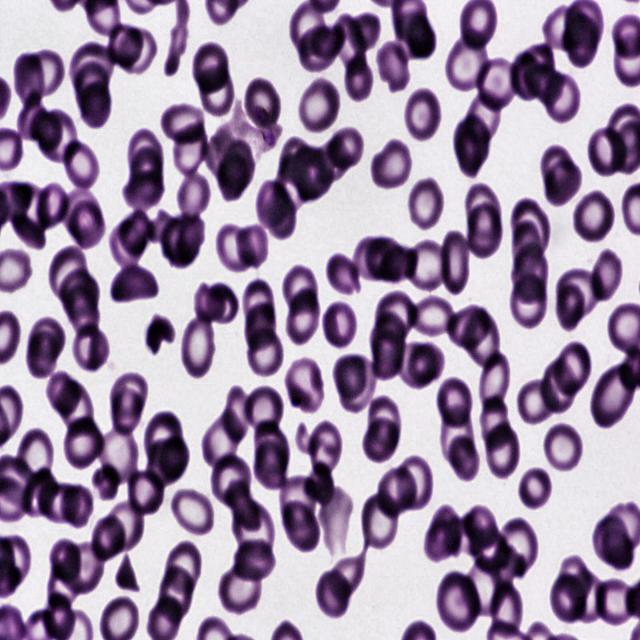red blood cell: (210, 120, 258, 202), (140, 410, 188, 480), (557, 0, 605, 70), (490, 516, 540, 582), (451, 304, 504, 366), (590, 364, 639, 431), (225, 492, 276, 553), (436, 569, 482, 635), (317, 124, 363, 186), (317, 483, 354, 560), (333, 351, 378, 414), (217, 556, 264, 616), (508, 199, 552, 263), (94, 424, 138, 488), (59, 540, 110, 595), (62, 187, 106, 250), (388, 453, 434, 513), (200, 408, 246, 468), (402, 238, 451, 294), (279, 490, 322, 553), (179, 311, 218, 380), (32, 112, 80, 168), (442, 34, 488, 92), (396, 336, 445, 390), (297, 75, 340, 136), (254, 422, 292, 491), (370, 311, 406, 383), (572, 188, 616, 246), (45, 245, 89, 303), (590, 510, 633, 569), (474, 56, 520, 111), (158, 213, 202, 270), (464, 556, 504, 618), (284, 356, 326, 415), (13, 428, 55, 487), (425, 504, 467, 563), (62, 415, 106, 471), (69, 43, 117, 94), (454, 114, 491, 180), (291, 146, 334, 202), (296, 27, 348, 73), (110, 262, 162, 308), (170, 486, 214, 540), (402, 85, 442, 144), (538, 68, 580, 124), (555, 270, 604, 318), (461, 506, 502, 563), (370, 136, 412, 191), (438, 230, 473, 296), (159, 564, 194, 630), (588, 123, 628, 180), (509, 273, 548, 331), (485, 577, 522, 638), (407, 295, 457, 340), (127, 129, 165, 188), (486, 420, 522, 482), (70, 319, 112, 372), (375, 291, 417, 344), (172, 168, 211, 225), (361, 490, 398, 550), (70, 60, 111, 114), (392, 9, 437, 58), (173, 121, 211, 179), (512, 242, 550, 300), (544, 422, 584, 477), (242, 385, 284, 437), (478, 348, 512, 412), (274, 152, 309, 214), (284, 262, 320, 322), (228, 536, 273, 584), (376, 468, 419, 518), (435, 375, 474, 430), (305, 420, 344, 475), (540, 6, 586, 52), (162, 102, 206, 150), (106, 499, 145, 553), (118, 27, 160, 77), (245, 327, 286, 378), (466, 86, 503, 142), (52, 480, 97, 526), (61, 138, 100, 191), (440, 407, 475, 466), (466, 179, 502, 236), (290, 3, 328, 57), (572, 569, 607, 627), (553, 343, 592, 395), (212, 454, 248, 510), (514, 379, 556, 427), (58, 378, 94, 434), (288, 285, 320, 348), (31, 180, 69, 233), (126, 466, 164, 519), (360, 414, 398, 467), (24, 48, 64, 98), (61, 270, 101, 320), (468, 203, 504, 258), (35, 483, 82, 525), (130, 146, 164, 204), (163, 544, 204, 592), (594, 578, 635, 626), (47, 558, 83, 612), (540, 144, 578, 195), (107, 388, 145, 439), (66, 282, 100, 339), (110, 373, 151, 420), (333, 8, 365, 68), (350, 236, 390, 284), (105, 22, 145, 70), (544, 158, 584, 206), (81, 79, 117, 132), (321, 299, 358, 350), (526, 61, 566, 108), (191, 39, 227, 91), (516, 464, 554, 513), (109, 219, 147, 268), (198, 66, 236, 115), (376, 39, 411, 92), (121, 169, 164, 212), (542, 361, 578, 412), (23, 467, 59, 518), (552, 571, 586, 624), (216, 223, 253, 271), (14, 51, 44, 110), (24, 329, 58, 381), (243, 301, 279, 350), (328, 554, 368, 598), (589, 248, 622, 301), (324, 252, 362, 298), (558, 553, 593, 602), (92, 513, 127, 562), (511, 221, 541, 278), (243, 276, 274, 331), (408, 179, 442, 229), (340, 47, 372, 100), (222, 384, 251, 442), (481, 395, 511, 451), (267, 186, 297, 242), (379, 242, 419, 284), (28, 317, 66, 361), (345, 13, 382, 58), (370, 394, 400, 448), (255, 176, 286, 228), (488, 545, 524, 589), (449, 433, 480, 484), (16, 96, 50, 141), (48, 372, 82, 417), (318, 570, 350, 616), (120, 210, 152, 256), (192, 279, 225, 323), (511, 52, 540, 102), (47, 540, 81, 582), (302, 465, 336, 507), (236, 224, 270, 266), (205, 283, 238, 326), (555, 282, 584, 330), (12, 214, 47, 252), (144, 316, 175, 354), (92, 463, 122, 501)
trophozoite: (206, 104, 284, 183)
